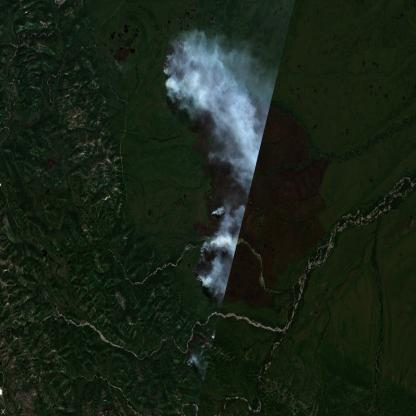fire: (159, 31, 195, 104), (189, 230, 228, 293), (206, 327, 218, 349)
